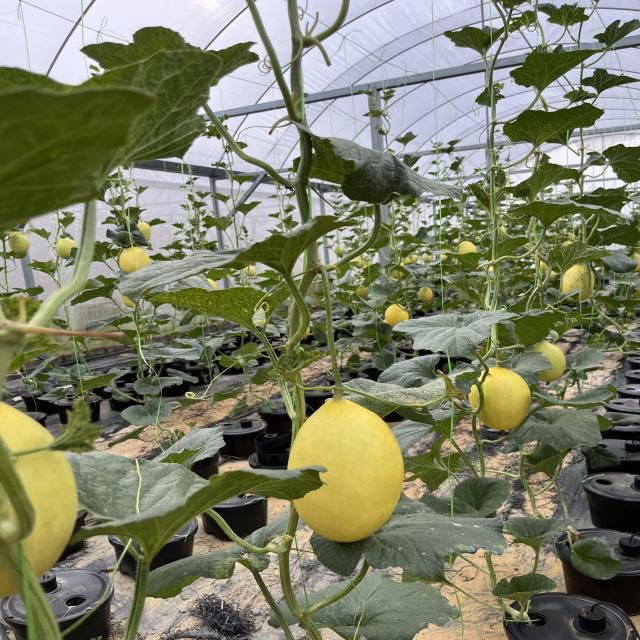CMV: (292, 132, 464, 209)
SLCV: (268, 349, 326, 383)
downy mildew: (309, 490, 508, 578), (147, 513, 304, 599), (148, 273, 317, 334), (324, 367, 478, 417), (502, 100, 607, 146)
healthy: (0, 23, 266, 230), (61, 453, 328, 555), (267, 572, 462, 640), (392, 309, 521, 359), (500, 408, 603, 452), (150, 427, 227, 466), (449, 477, 512, 517), (602, 141, 640, 184)
powdery mildew: (570, 539, 623, 580), (492, 573, 556, 605)
